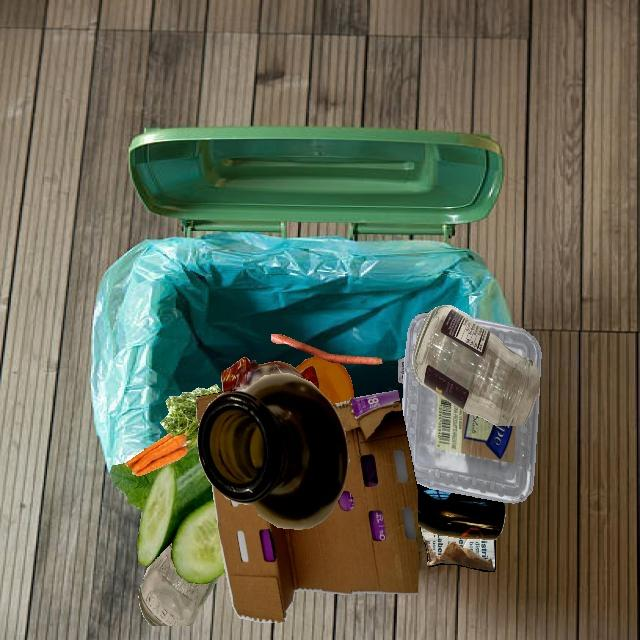biowaste: (110, 443, 226, 584), (124, 384, 222, 476), (271, 334, 383, 365)
cardboard: (211, 390, 418, 623), (420, 527, 496, 572)
glass: (197, 373, 349, 530), (412, 305, 540, 426), (138, 541, 223, 626), (416, 482, 505, 539)
plastic: (402, 312, 539, 503), (221, 357, 319, 392), (295, 356, 354, 404), (398, 358, 405, 383)
